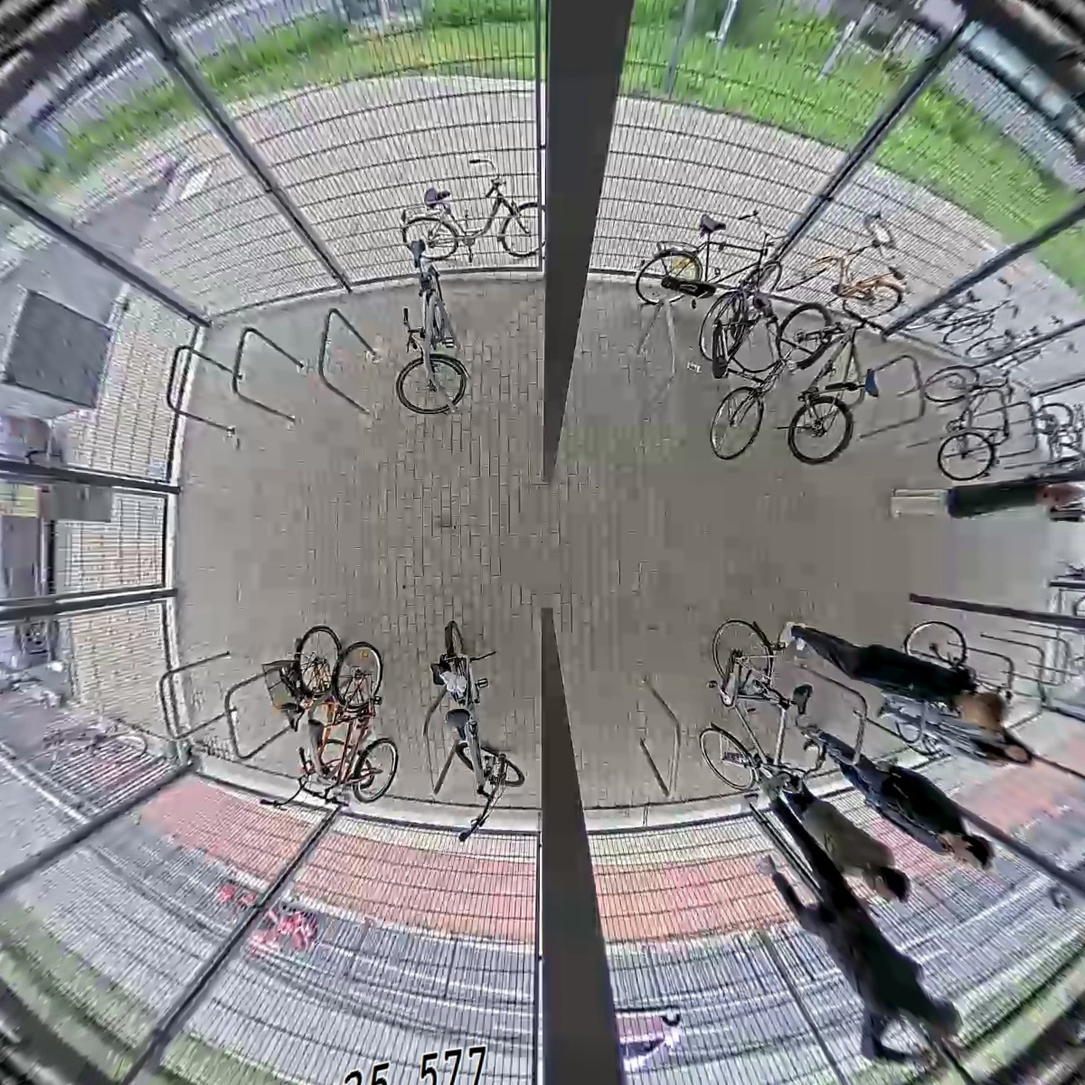bicylce: (254, 614, 377, 822), (698, 619, 823, 795), (771, 296, 896, 466), (428, 618, 524, 832), (296, 634, 401, 829), (631, 194, 795, 318), (380, 230, 482, 420), (697, 276, 788, 462), (920, 355, 1022, 490)
saddle: (297, 714, 338, 754), (781, 682, 824, 719), (442, 705, 481, 745), (274, 697, 306, 742), (402, 231, 432, 275), (748, 288, 781, 326), (855, 364, 884, 403), (692, 208, 728, 238), (998, 412, 1019, 440)
